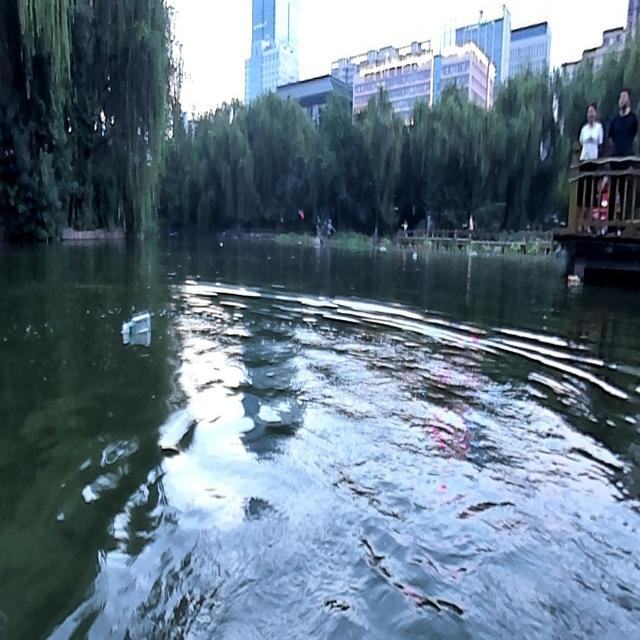bottle: (122, 311, 150, 339), (567, 273, 579, 288)
